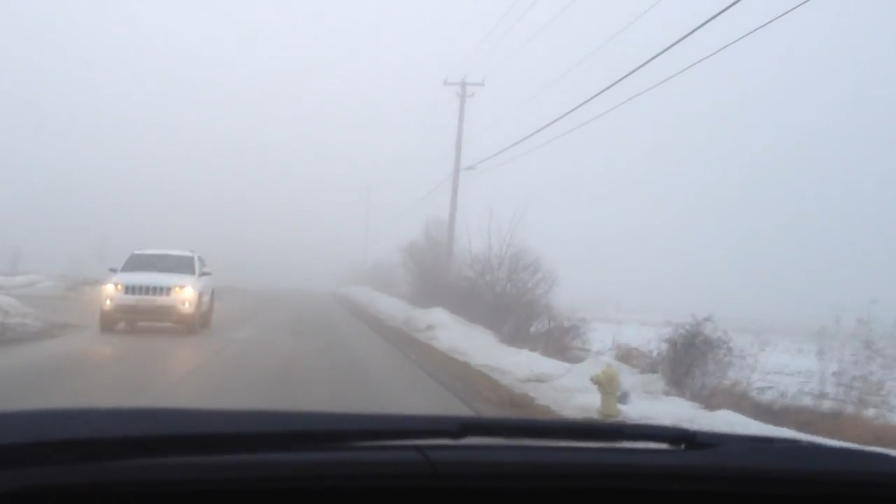car: (98, 247, 216, 334)
